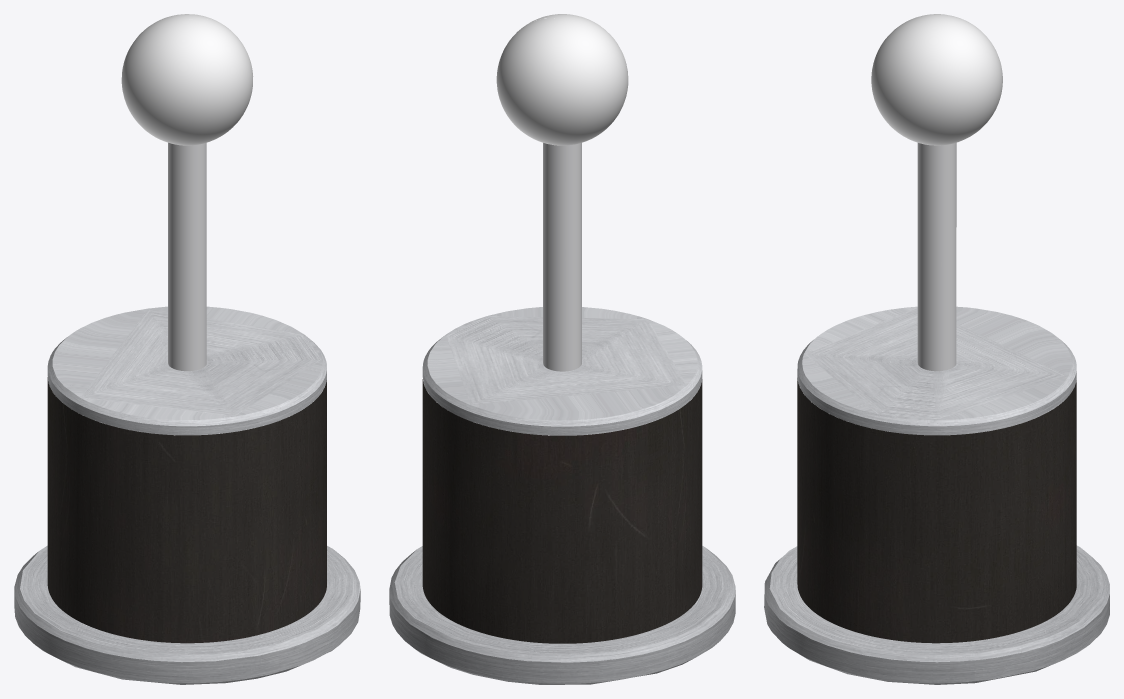
Rendered from pawn-black.glb.
The picture shows the model from 3 angles, left to right: view 1: azimuth 30°, elevation 25°; view 2: azimuth 150°, elevation 25°; view 3: azimuth 270°, elevation 25°; orthographic projection.
Visible parts, largest first — view 1: ferro-orbis_pawn_black; view 2: ferro-orbis_pawn_black; view 3: ferro-orbis_pawn_black.
Part boxes in pixels (box(x1,y1,x2,y2)): ferro-orbis_pawn_black: box(14, 14, 360, 684); ferro-orbis_pawn_black: box(389, 14, 735, 684); ferro-orbis_pawn_black: box(764, 14, 1109, 684).
Size of the model in its own units: 0.4551 by 0.86 by 0.4544.
Materials: 5 (3 with a texture image).
